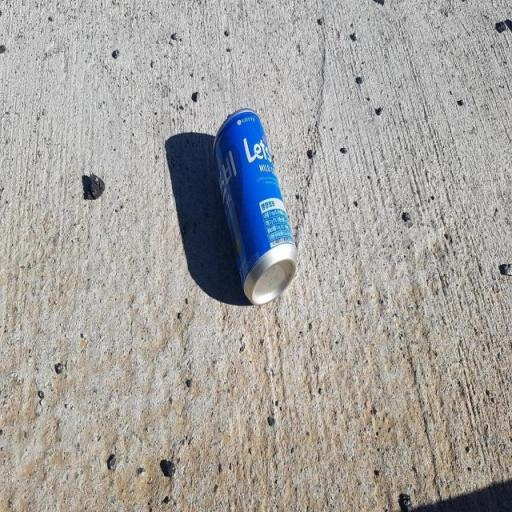metal: (204, 95, 302, 324)
